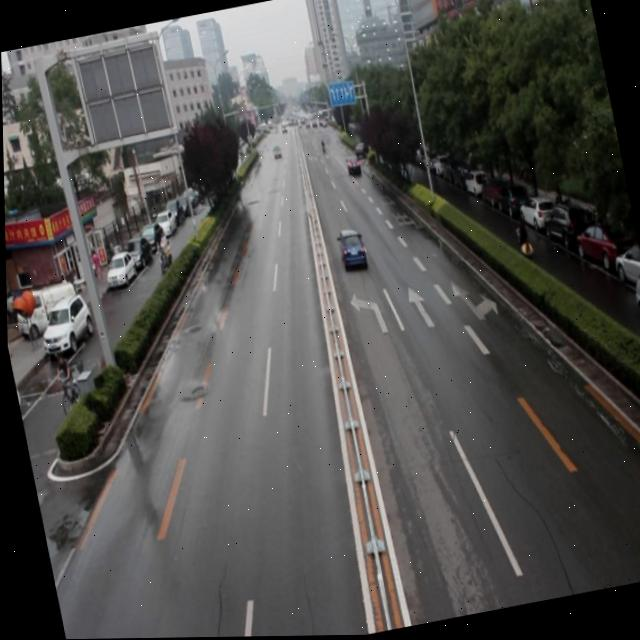car: (333, 226, 366, 271), (342, 151, 360, 176)
